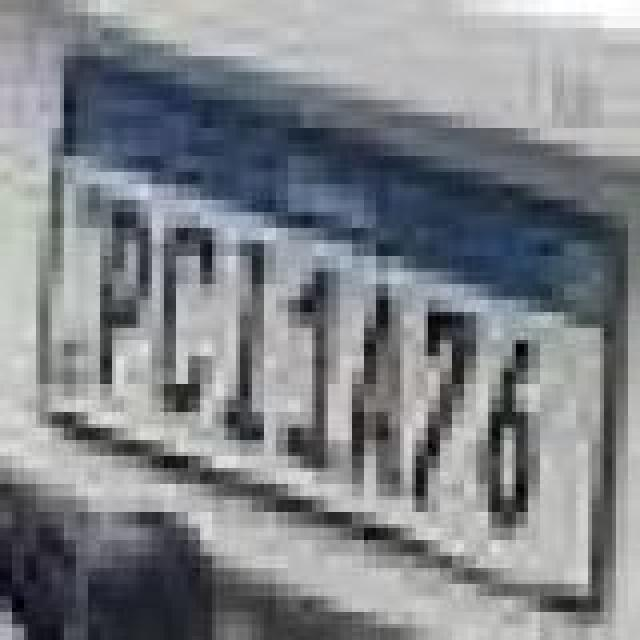1: (276, 260, 340, 476)
6: (474, 324, 550, 540)
7: (410, 300, 486, 516)
A: (344, 278, 408, 506)
C: (156, 212, 220, 428)
I: (212, 236, 276, 452)
P: (96, 188, 160, 404)
